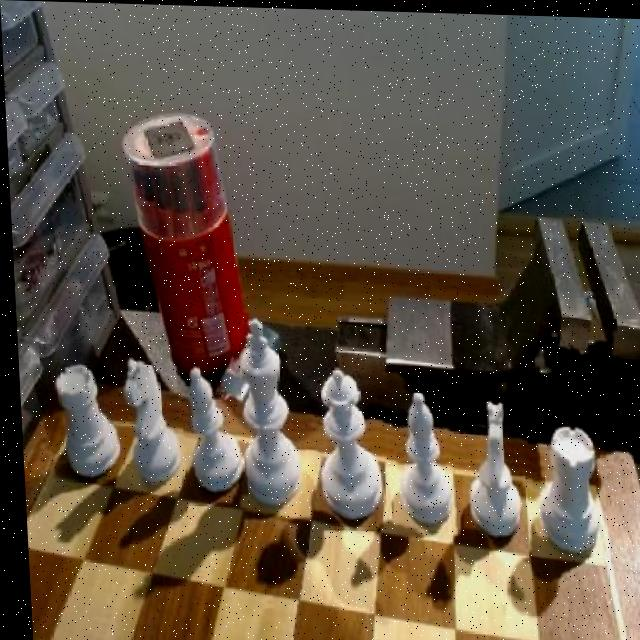black-rook: (386, 379, 453, 536), (174, 356, 242, 498)
white-bishop: (228, 313, 307, 514)
white-king: (454, 388, 523, 542), (118, 355, 181, 488)
white-pawn: (308, 364, 386, 530)
white-queen: (522, 415, 604, 556), (45, 353, 123, 482)
